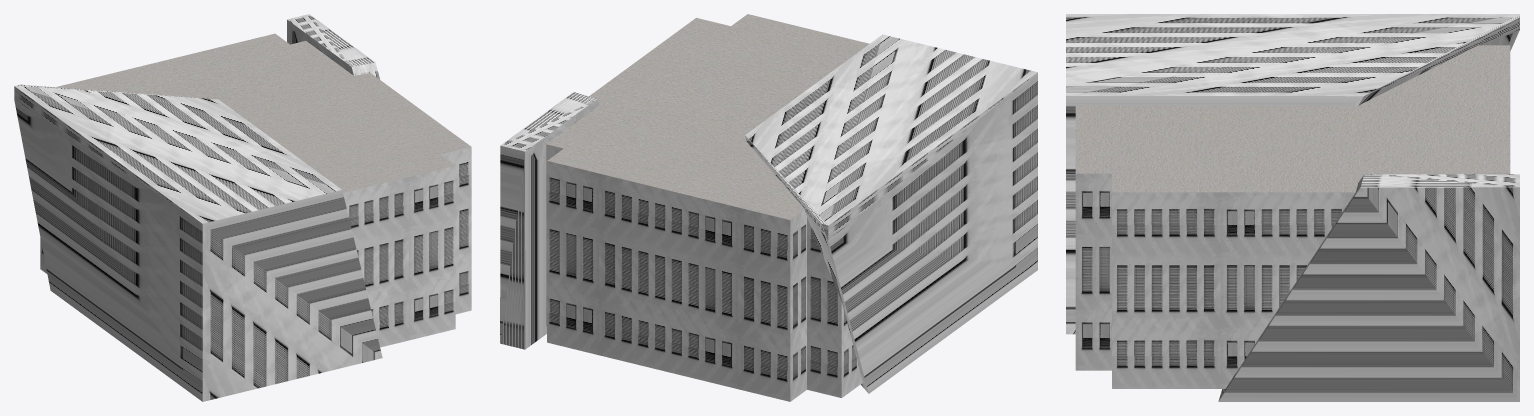
The model's file is building1.gltf.
3 renders of one model, left to right at view 1: azimuth 30°, elevation 25°; view 2: azimuth 150°, elevation 25°; view 3: azimuth 270°, elevation 25°, orthographic. The views are drawn at different scales.
Visible parts, largest first — view 1: building1_cell, building1, building1_cell.001, building1_cell.002, building1_cell.003; view 2: building1, building1_cell, building1_cell.002, building1_cell.003, building1_cell.001; view 3: building1, building1_cell.003, building1_cell, building1_cell.001, building1_cell.002.
Boxes of the visible parts, box(x1,y1,x2,y2) form: building1_cell: box(14, 84, 382, 401); building1: box(40, 33, 471, 342); building1_cell.001: box(232, 73, 471, 347); building1_cell.002: box(40, 34, 353, 273); building1_cell.003: box(287, 14, 379, 79); building1: box(546, 14, 868, 401); building1_cell: box(745, 34, 1037, 393); building1_cell.002: box(547, 122, 862, 401); building1_cell.003: box(500, 92, 599, 349); building1_cell.001: box(601, 14, 869, 131); building1: box(1075, 45, 1510, 388); building1_cell.003: box(1218, 174, 1519, 401); building1_cell: box(1066, 14, 1519, 334); building1_cell.001: box(1075, 106, 1357, 388); building1_cell.002: box(1358, 45, 1510, 180).
Bounding box in the file's own units: 2.13 × 1.23 × 2.35.
Materials: 2 (2 with a texture image).
